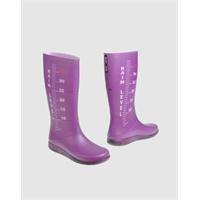shoe: (42, 53, 110, 165), (104, 50, 159, 147)
